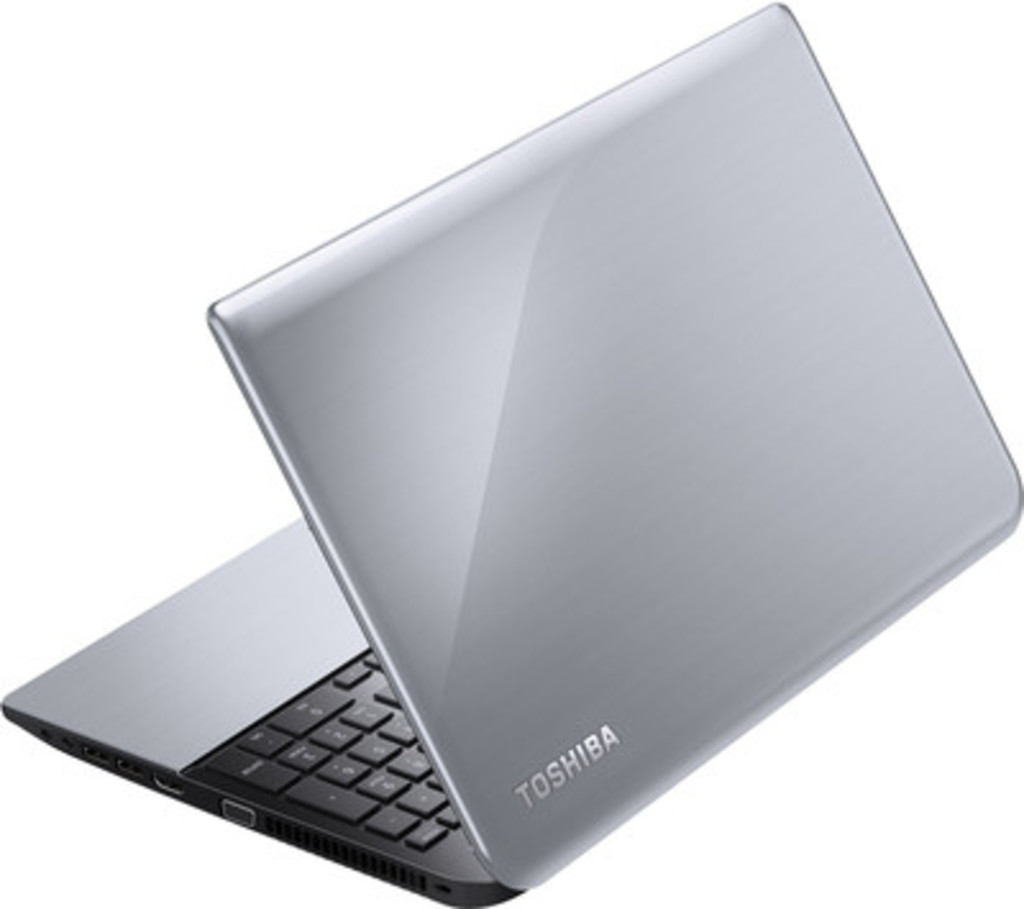Laptop: (0, 0, 1021, 906)
